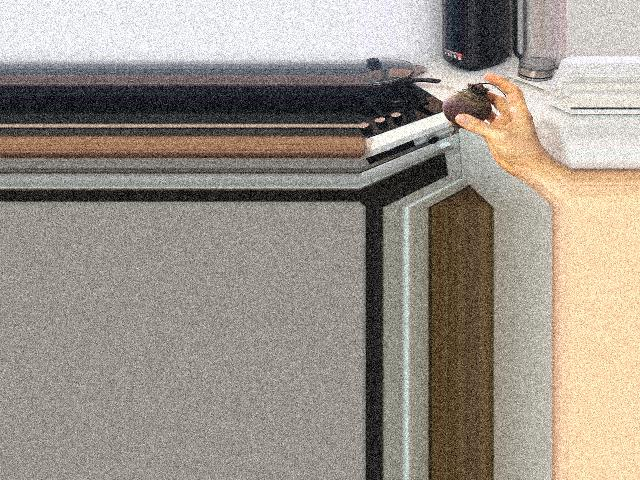beet: (442, 83, 505, 136)
